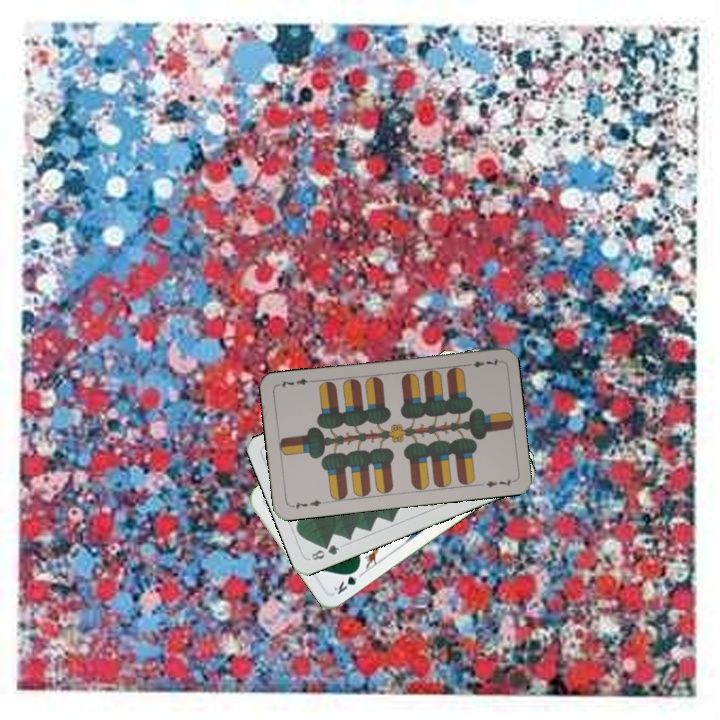E7: (288, 496, 328, 512), (461, 355, 502, 370)
G8: (307, 540, 342, 563)
GK: (328, 564, 366, 597)
